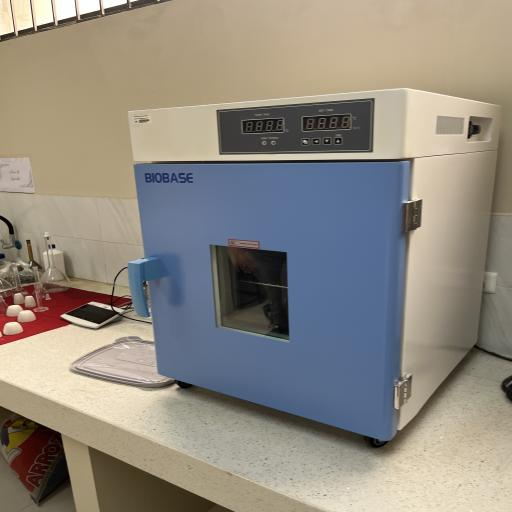Horno_Secado_Biobase: (108, 83, 506, 457)
